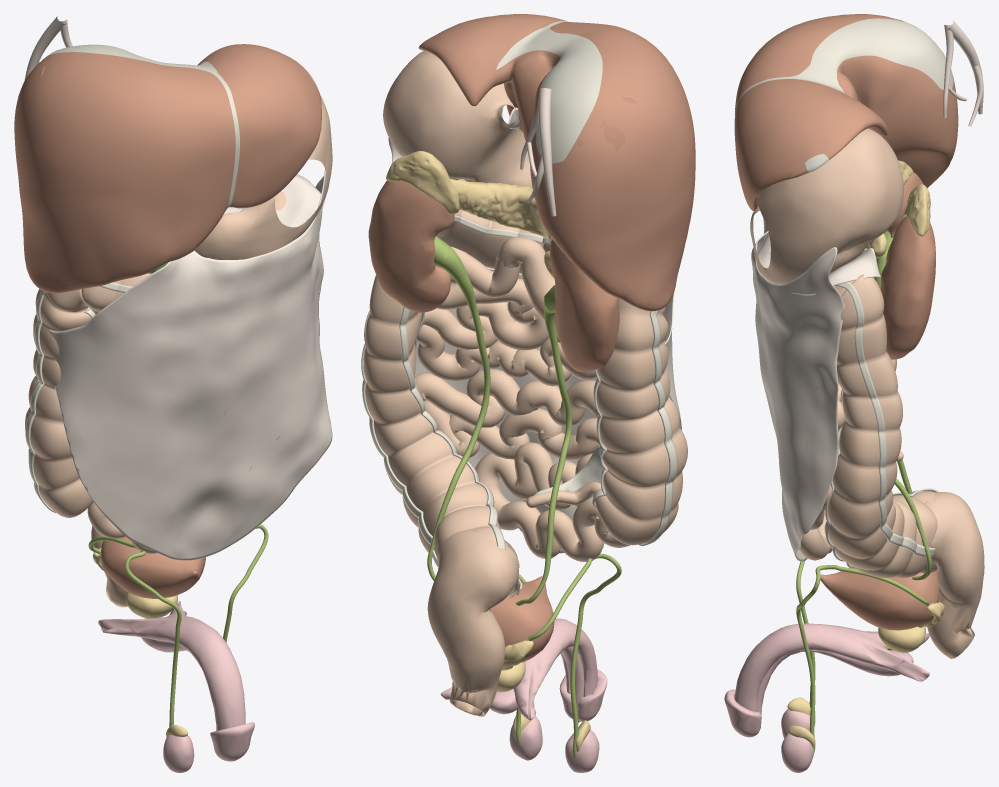
The model's file is viscera_abdomen_pelvis.glb.
The picture shows the model from 3 angles, left to right: view 1: azimuth 30°, elevation 25°; view 2: azimuth 150°, elevation 25°; view 3: azimuth 270°, elevation 25°; orthographic projection. The views are drawn at different scales.
Parts seen in each view (by area): view 1: Greater omentum, Liver, Ascending colon, Corpus cavernosum of penis, Stomach, Urinary bladder, Mesocolon, Mesocolic taenia, Ductus deferens (R), Glans penis, Transverse colon, Testis (R) (+5 smaller); view 2: Liver, Jejunum, Ascending colon, Descending colon, Stomach, Sigmoid colon, Kidney (L), Kidney (R), Pancreas, Corpus cavernosum of penis, Mesocolic taenia, Greater omentum (+17 smaller); view 3: Liver, Greater omentum, Descending colon, Stomach, Sigmoid colon, Kidney (L), Corpus cavernosum of penis, Urinary bladder, Mesocolic taenia, Posterior basal segmental bronchus of right lung (BX), Mesocolon, Ductus deferens (L) (+9 smaller).
Part boxes in pixels (box(x1,y1,x2,y2)): Greater omentum: box(48, 169, 332, 560); Liver: box(14, 44, 321, 293); Ascending colon: box(25, 289, 93, 517); Corpus cavernosum of penis: box(98, 601, 245, 730); Stomach: box(194, 96, 332, 259); Urinary bladder: box(100, 537, 205, 598); Mesocolon: box(255, 174, 324, 275); Mesocolic taenia: box(25, 282, 132, 512); Ductus deferens (R): box(88, 536, 181, 726); Glans penis: box(210, 722, 254, 761); Transverse colon: box(81, 191, 286, 311); Testis (R): box(163, 735, 194, 772); Liver: box(418, 14, 695, 311); Jejunum: box(415, 246, 629, 561); Ascending colon: box(595, 298, 687, 545); Descending colon: box(363, 276, 519, 597); Stomach: box(383, 50, 532, 188); Sigmoid colon: box(427, 529, 519, 716); Kidney (L): box(368, 180, 454, 312); Kidney (R): box(550, 239, 619, 371); Pancreas: box(450, 179, 553, 277); Corpus cavernosum of penis: box(440, 618, 597, 720); Mesocolic taenia: box(361, 275, 677, 567); Greater omentum: box(388, 137, 681, 553); Liver: box(734, 14, 958, 210); Greater omentum: box(751, 218, 845, 561); Descending colon: box(827, 274, 937, 577); Stomach: box(750, 128, 903, 283); Sigmoid colon: box(925, 492, 984, 658); Kidney (L): box(880, 216, 935, 359); Corpus cavernosum of penis: box(734, 623, 929, 711); Urinary bladder: box(820, 567, 938, 630); Mesocolic taenia: box(834, 282, 935, 557); Posterior basal segmental bronchus of right lung (BX): box(943, 21, 983, 126); Mesocolon: box(757, 232, 881, 295); Ductus deferens (L): box(796, 565, 928, 752).
Size of the model in its own units: 0.2346 by 0.5461 by 0.1824.
